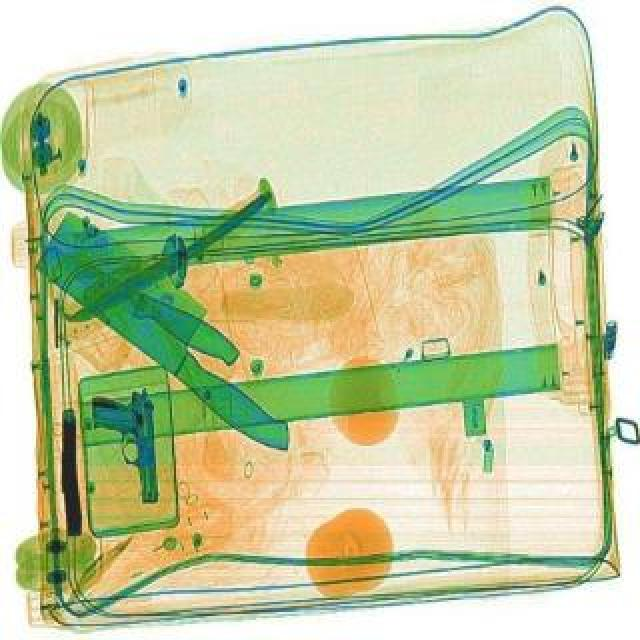gun: (88, 386, 160, 502), (56, 406, 84, 532)
knife: (14, 208, 330, 454), (30, 222, 246, 370), (64, 190, 278, 330)
